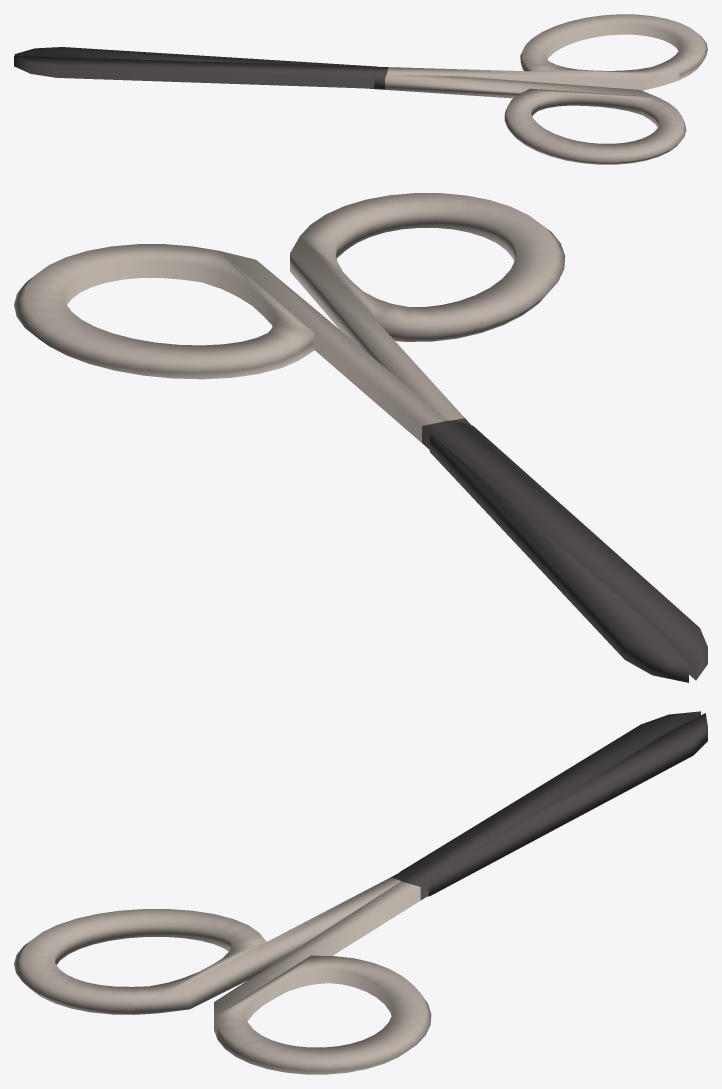
File: scissors.fbx
3 renders of one model, top to bottom at view 1: azimuth 30°, elevation 25°; view 2: azimuth 150°, elevation 25°; view 3: azimuth 270°, elevation 25°, orthographic. The views are drawn at different scales.
Visible parts, largest first — view 1: Plane.004, Schere; view 2: Plane.004, Schere; view 3: Schere, Plane.004.
Boxes of the visible parts, x1=… form: Plane.004: x1=14, y1=14, x2=707, y2=90; Schere: x1=14, y1=47, x2=686, y2=164; Plane.004: x1=14, y1=244, x2=707, y2=680; Schere: x1=290, y1=193, x2=688, y2=682; Schere: x1=14, y1=713, x2=707, y2=1014; Plane.004: x1=214, y1=711, x2=700, y2=1074.
Bounding box in the file's own units: 13.2 × 0.2537 × 10.98.
